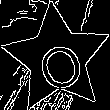O_NW: (27, 27, 87, 91)
